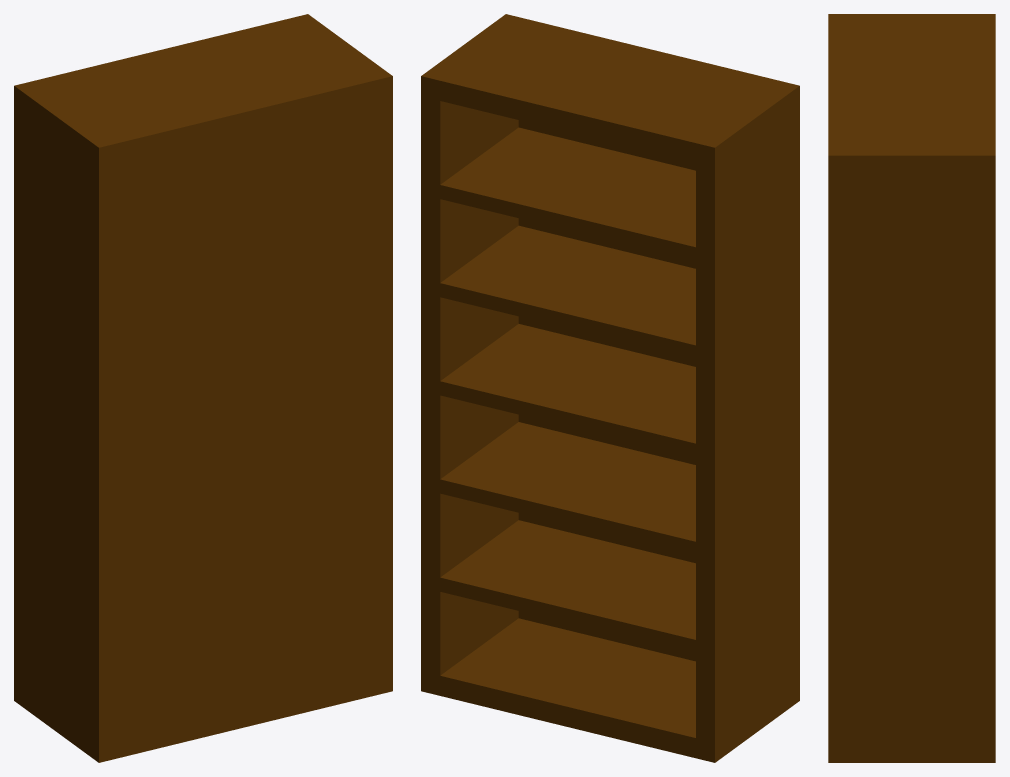
File: bookshelf.fbx
The picture shows the model from 3 angles, left to right: view 1: azimuth 30°, elevation 25°; view 2: azimuth 150°, elevation 25°; view 3: azimuth 270°, elevation 25°; orthographic projection.
Visible parts, largest first — view 1: Bookshelf_original; view 2: Bookshelf_original; view 3: Bookshelf_original.
Boxes of the visible parts, x1=… form: Bookshelf_original: x1=14, y1=14, x2=392, y2=762; Bookshelf_original: x1=421, y1=14, x2=799, y2=762; Bookshelf_original: x1=828, y1=14, x2=995, y2=762.
Size of the model in its own units: 100 by 200 by 50.
